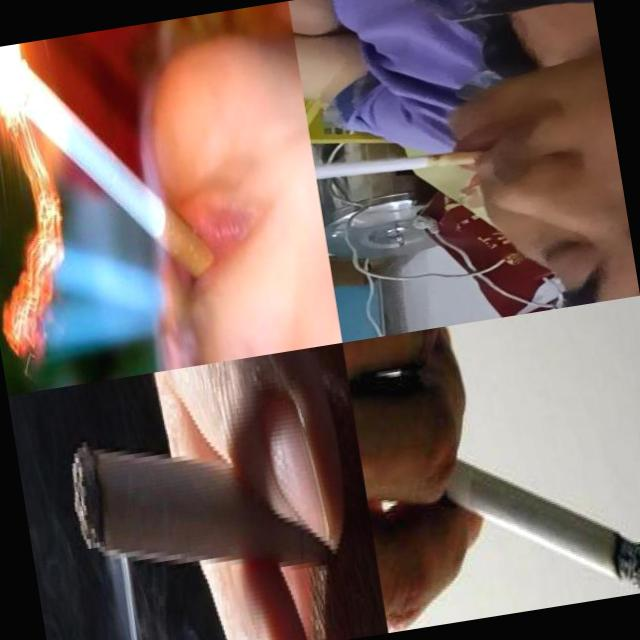smoke: (64, 406, 340, 604), (22, 55, 222, 312), (429, 430, 640, 621), (314, 133, 496, 191)
